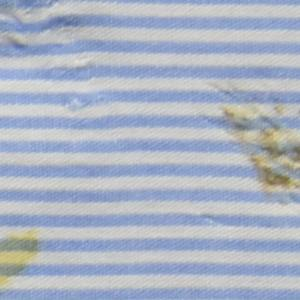Damage: (1, 1, 109, 116), (197, 210, 233, 234)
Oil Stain: (217, 103, 300, 209)
Stain: (1, 228, 42, 293)
